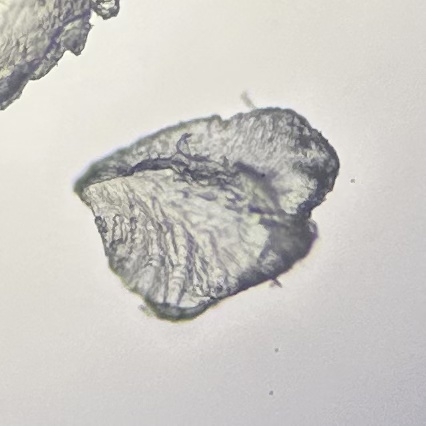microplastic: (69, 104, 344, 326), (1, 1, 122, 112)
